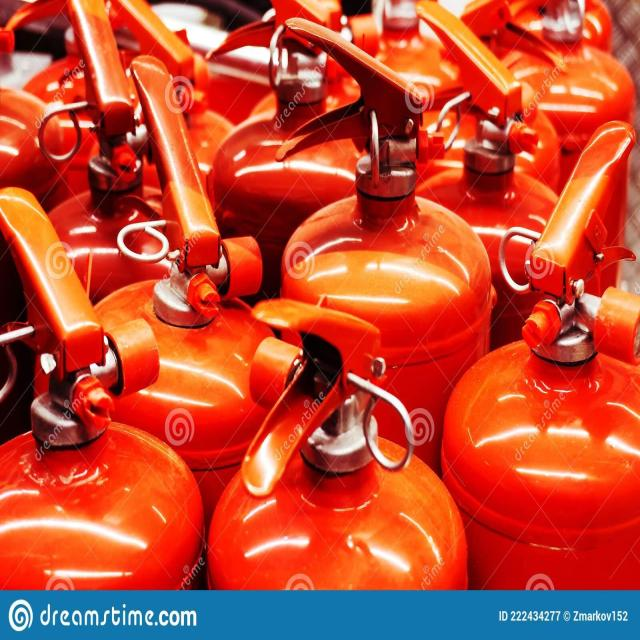fire_extinguisher: (257, 13, 501, 588), (56, 51, 294, 588), (207, 0, 394, 595), (385, 0, 595, 528), (436, 111, 640, 592), (0, 178, 211, 594), (199, 290, 476, 592)
